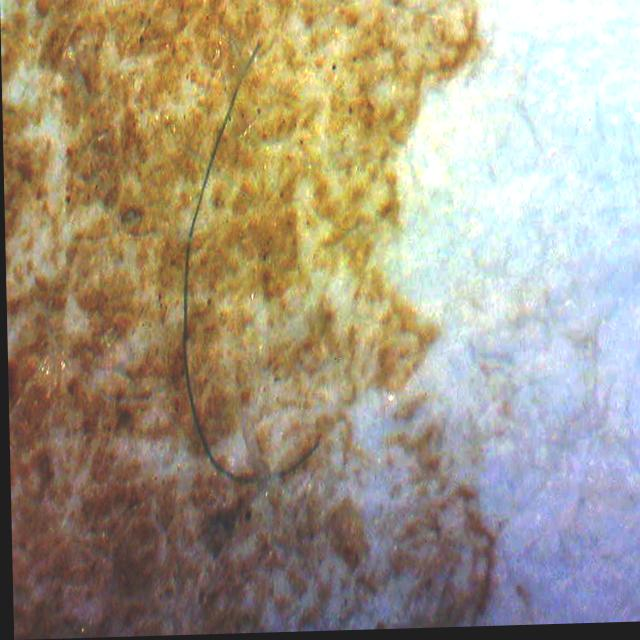microplastic: (139, 46, 321, 491)
